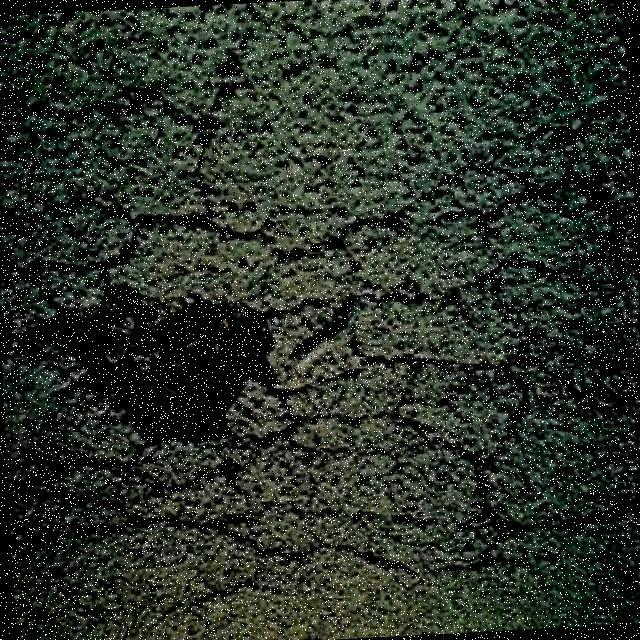Pothole: (2, 283, 276, 441)
